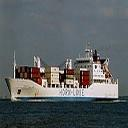Ships: (2, 38, 121, 103)
